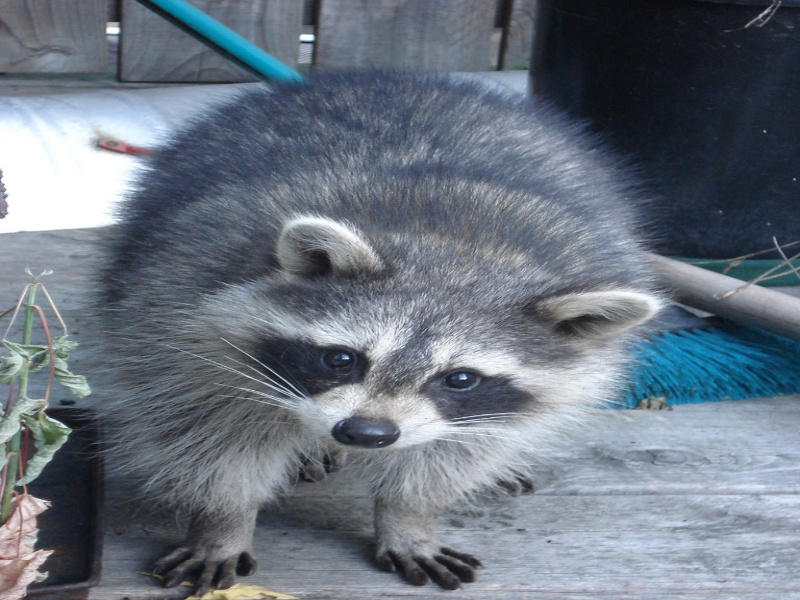raccoon: (86, 63, 669, 591)
